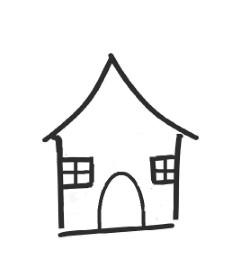closed_window: (54, 151, 95, 196), (145, 148, 184, 188)
door: (93, 167, 151, 238)
single_line_roof: (36, 49, 203, 149)
wall: (52, 137, 186, 241)
